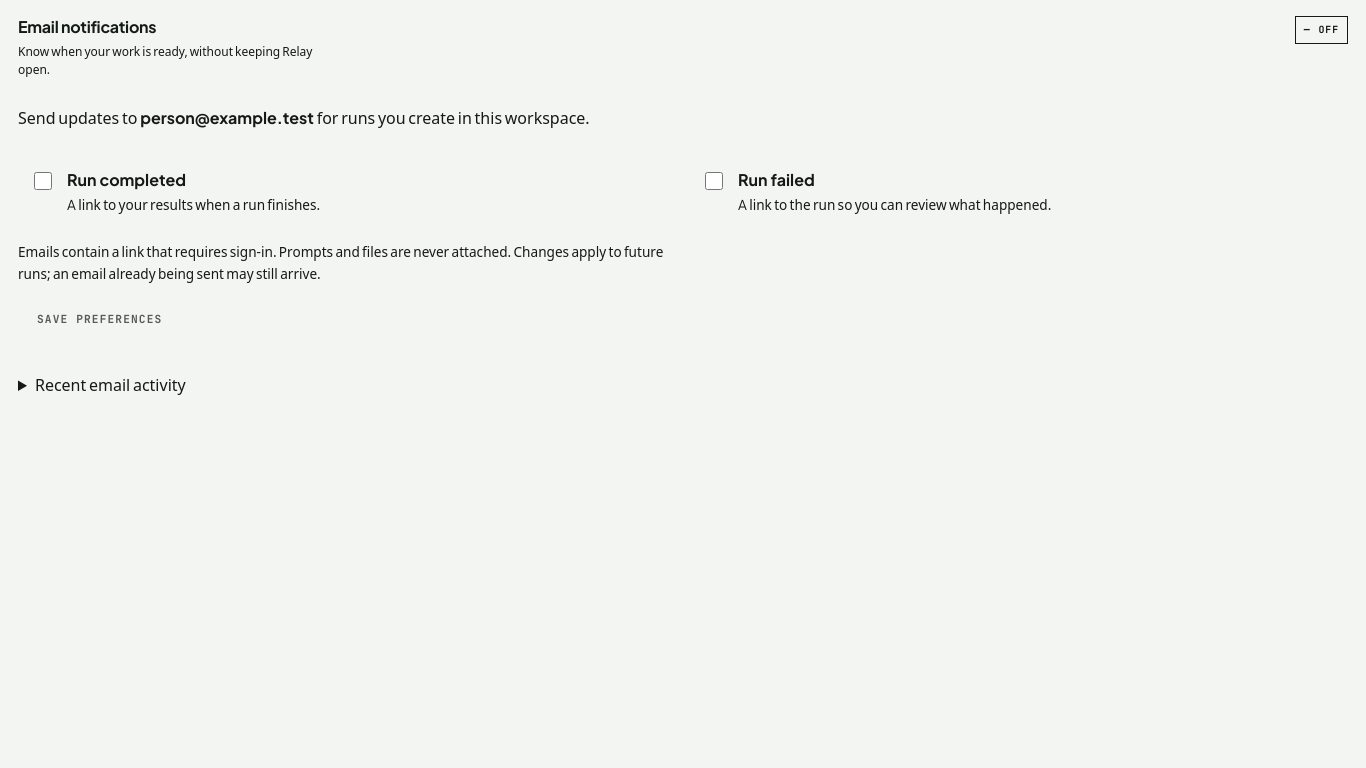
requires a refresh after an ambiguous save failure
This screenshot has width=1366, height=768.
Click the checkbox labelled "Run failed". click: click(714, 181)
box: [705, 172, 723, 190]
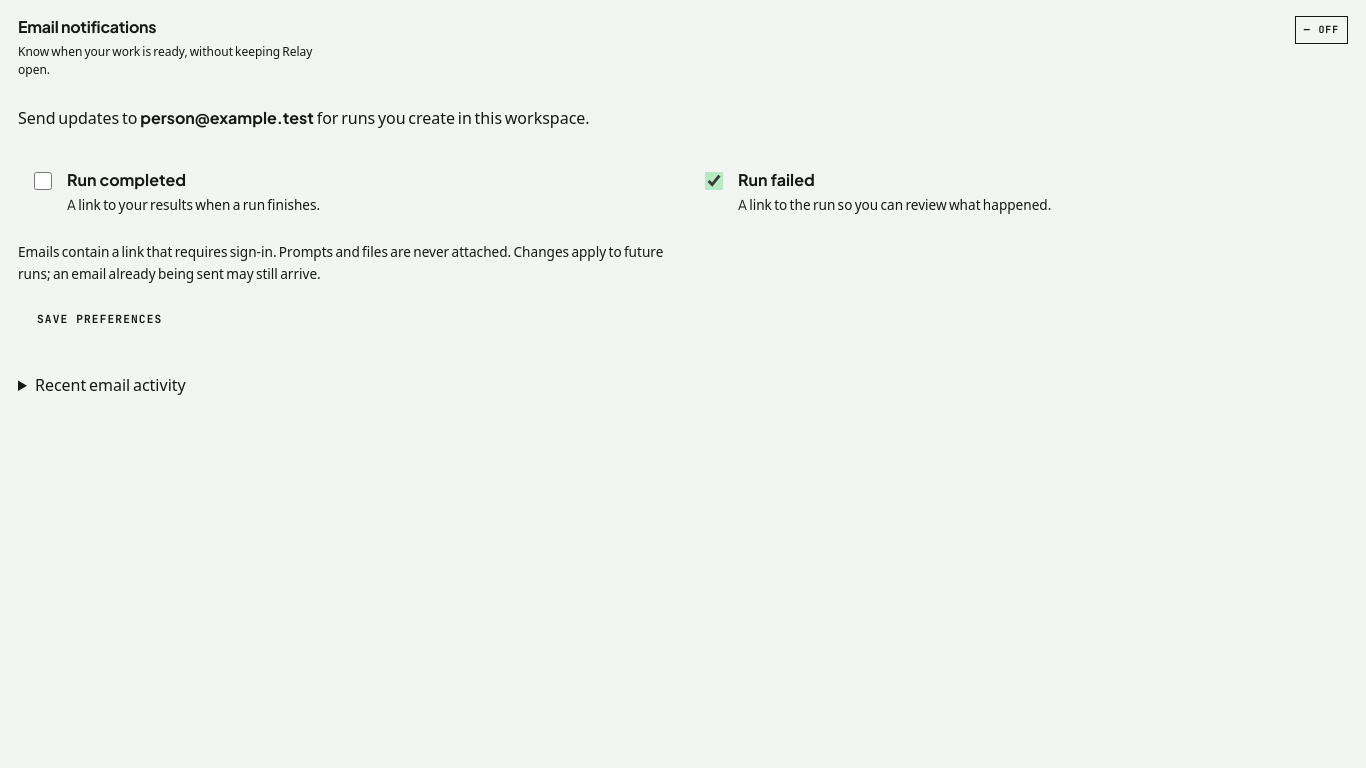
Click the button "Save preferences". click: click(100, 320)
box: [18, 298, 181, 342]
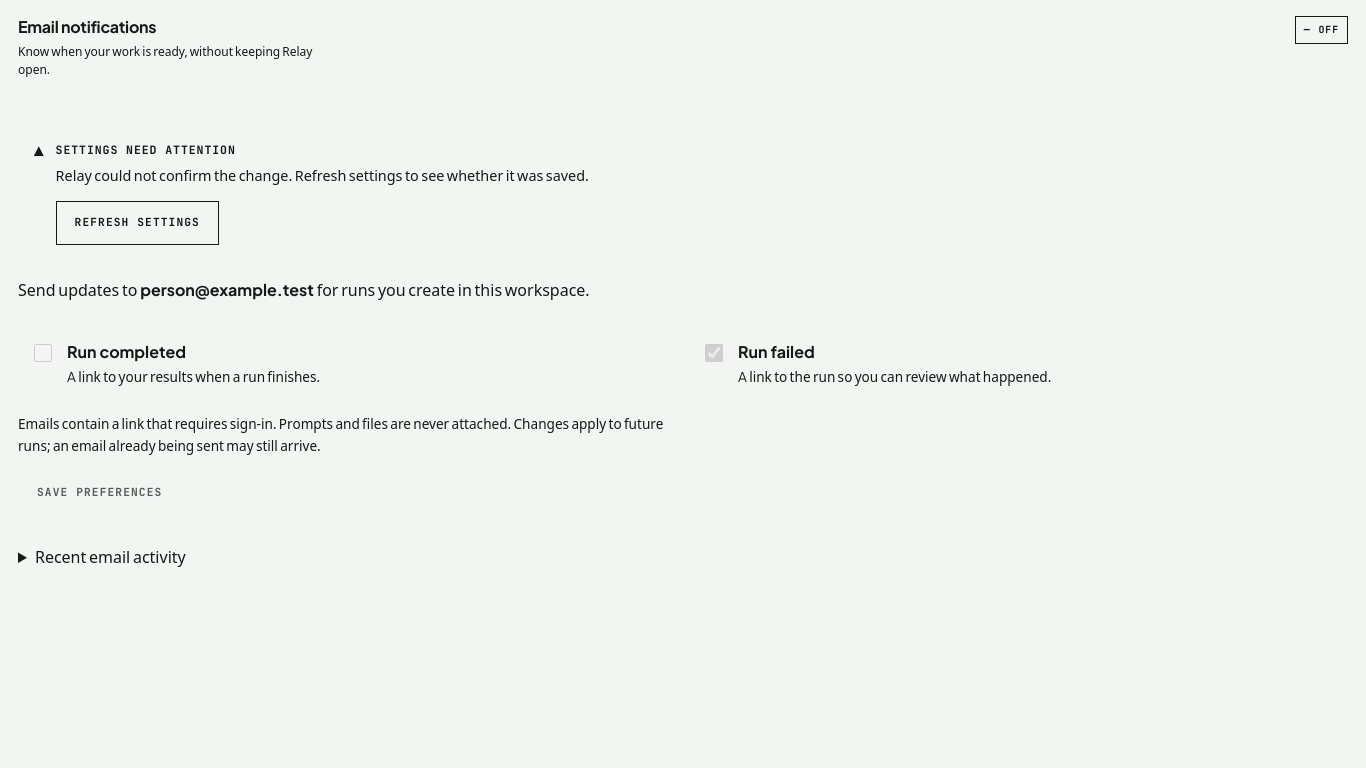
Result: the message is shown at [34, 141, 589, 245]
Result: the button "Save preferences" is disabled at [18, 470, 181, 514]
Click the button "Refresh settings". click: click(137, 223)
box: [56, 201, 219, 245]
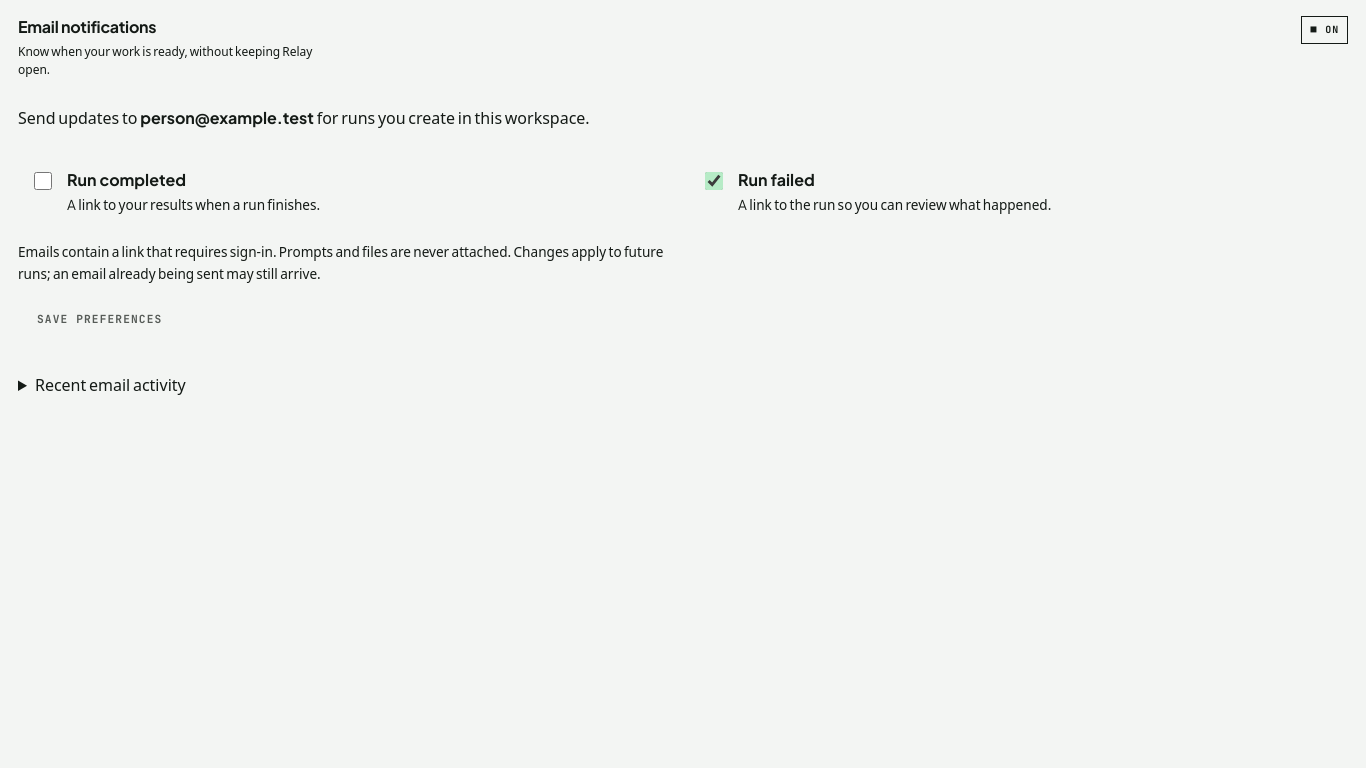
Result: the checkbox labelled "Run failed" is checked at [705, 172, 723, 190]
Result: the message is gone
